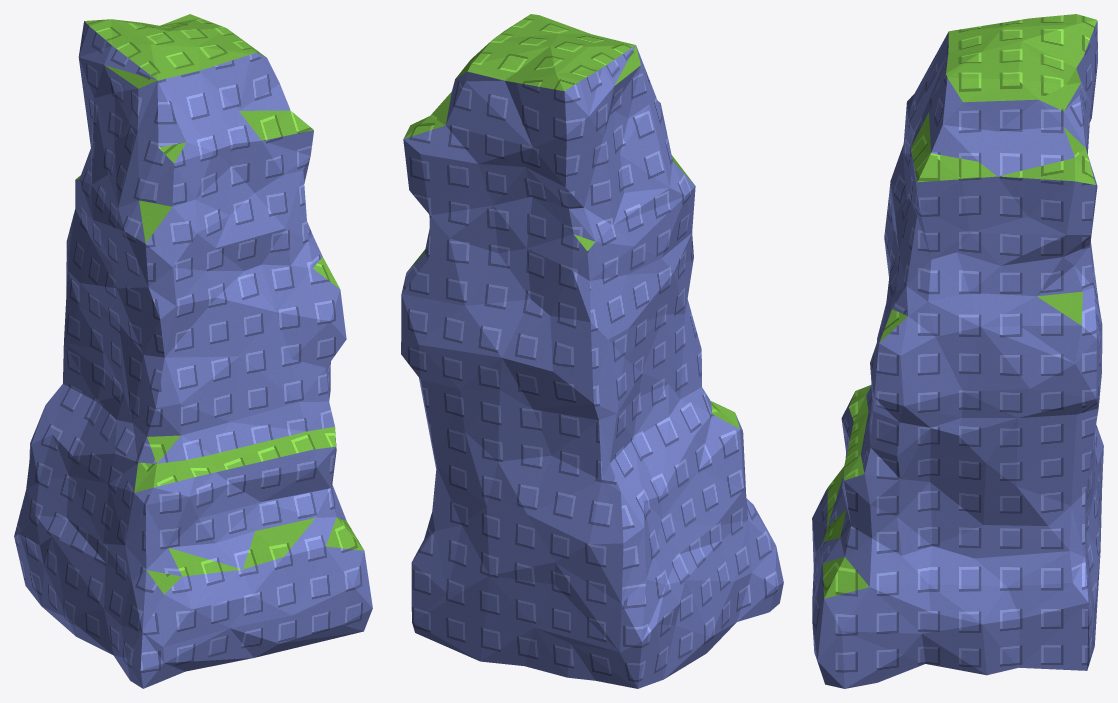
Rendered from Buttress.glb.
3 renders of one model, left to right at view 1: azimuth 30°, elevation 25°; view 2: azimuth 150°, elevation 25°; view 3: azimuth 270°, elevation 25°, orthographic. The views are drawn at different scales.
Visible parts, largest first — view 1: Buttress_Rock, Buttress_Top; view 2: Buttress_Rock, Buttress_Top; view 3: Buttress_Rock, Buttress_Top.
Boxes of the visible parts, x1=… form: Buttress_Rock: x1=14, y1=21, x2=372, y2=688; Buttress_Top: x1=76, y1=14, x2=363, y2=593; Buttress_Rock: x1=401, y1=45, x2=783, y2=688; Buttress_Top: x1=403, y1=14, x2=739, y2=428; Buttress_Rock: x1=812, y1=21, x2=1103, y2=688; Buttress_Top: x1=823, y1=14, x2=1097, y2=598.
Size of the model in its own units: 7.18 by 16.03 by 7.1.
2 materials, 2 textured.
